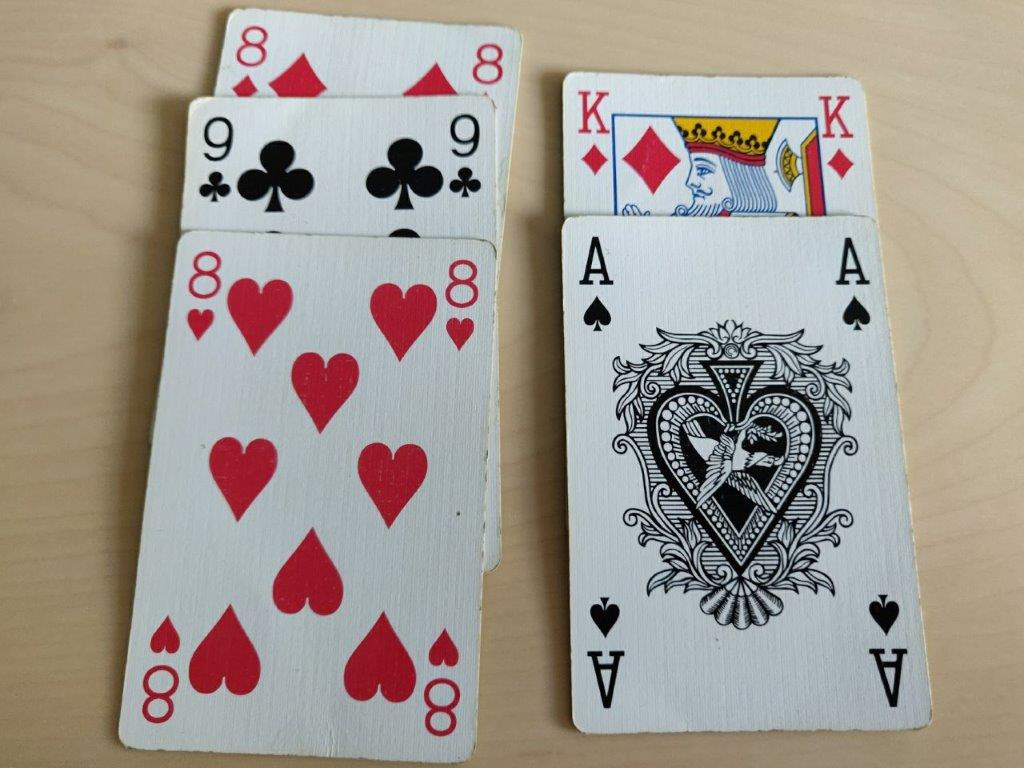8D: (225, 7, 519, 99)
8H: (118, 245, 492, 752)
9C: (186, 101, 493, 242)
AS: (558, 221, 931, 735)
KD: (564, 68, 878, 222)
